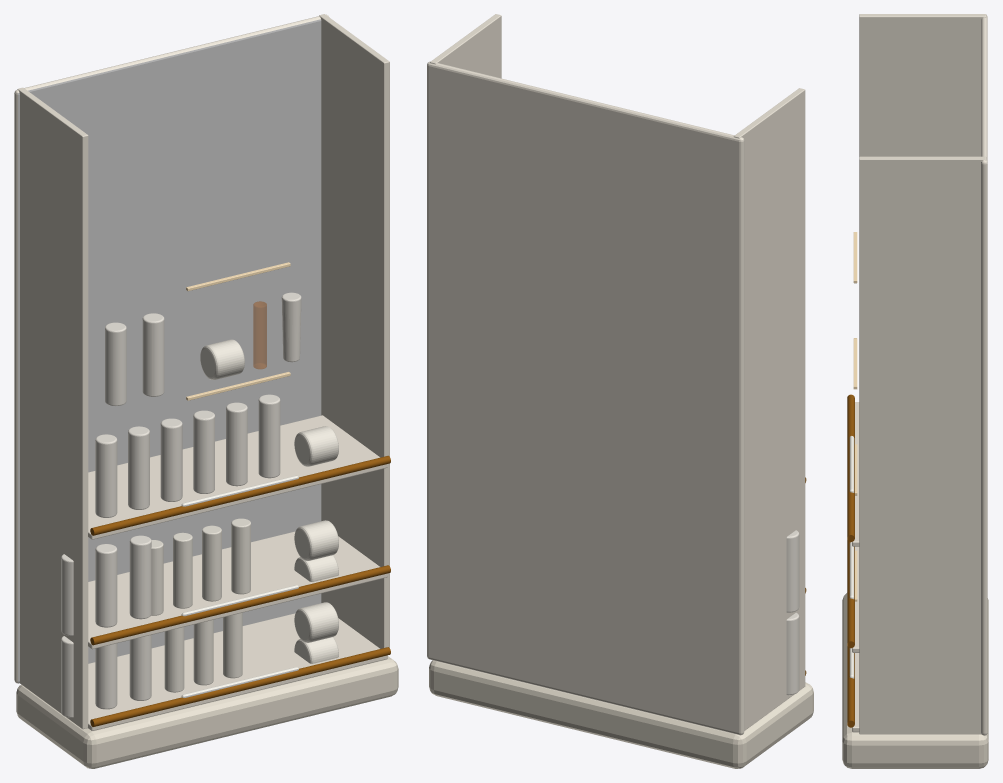
The model's file is claude_opus_5.obj.
The picture shows the model from 3 angles, left to right: view 1: azimuth 30°, elevation 25°; view 2: azimuth 150°, elevation 25°; view 3: azimuth 270°, elevation 25°; orthographic projection. The views are drawn at different scales.
Visible parts, largest first — view 1: back.panel, side.panel_1, side.panel_2, plinth, shelf.deck.bottom, shelf.deck_2, shelf.deck_3, shelf.rail_3, shelf.rail_2, shelf.rail.bottom, product.pump.mid2_6, product.pump.mid1_2 (+27 smaller); view 2: back.panel, side.panel_1, plinth, side.panel_2, product.pump.mid1_1, product.pump.bottom_1; view 3: side.panel_2, side.panel_1, plinth, back.panel, shelf.rail_3, shelf.deck_3, shelf.rail_2, shelf.rail.bottom, shelf.deck_2, shelf.deck.bottom, shelf.talker_3, shelf.talker_2.
Boxes of the visible parts, x1=… form: back.panel: x1=14, y1=14, x2=328, y2=683; side.panel_1: x1=17, y1=87, x2=88, y2=729; side.panel_2: x1=319, y1=14, x2=389, y2=648; plinth: x1=16, y1=656, x2=398, y2=768; shelf.deck.bottom: x1=88, y1=613, x2=387, y2=730; shelf.deck_2: x1=88, y1=531, x2=387, y2=649; shelf.deck_3: x1=88, y1=415, x2=387, y2=539; shelf.rail_3: x1=90, y1=455, x2=390, y2=535; shelf.rail_2: x1=90, y1=565, x2=390, y2=645; shelf.rail.bottom: x1=90, y1=647, x2=390, y2=726; product.pump.mid2_6: x1=258, y1=394, x2=280, y2=478; product.pump.mid1_2: x1=95, y1=544, x2=117, y2=627; back.panel: x1=427, y1=61, x2=744, y2=735; side.panel_1: x1=733, y1=88, x2=805, y2=730; plinth: x1=429, y1=660, x2=813, y2=768; side.panel_2: x1=430, y1=14, x2=501, y2=78; product.pump.mid1_1: x1=786, y1=530, x2=799, y2=612; product.pump.bottom_1: x1=786, y1=612, x2=799, y2=695; side.panel_2: x1=859, y1=156, x2=986, y2=734; side.panel_1: x1=859, y1=14, x2=986, y2=156; plinth: x1=842, y1=593, x2=988, y2=768; back.panel: x1=981, y1=15, x2=987, y2=735; shelf.rail_3: x1=847, y1=394, x2=854, y2=541; shelf.deck_3: x1=852, y1=402, x2=859, y2=546; shelf.rail_2: x1=847, y1=540, x2=854, y2=648; shelf.rail.bottom: x1=847, y1=646, x2=854, y2=727; shelf.deck_2: x1=852, y1=546, x2=859, y2=652; shelf.deck.bottom: x1=852, y1=653, x2=859, y2=732; shelf.talker_3: x1=849, y1=436, x2=854, y2=492; shelf.talker_2: x1=849, y1=542, x2=854, y2=599.
Bounding box in the file's own units: 0.923 × 1.75 × 0.381.
